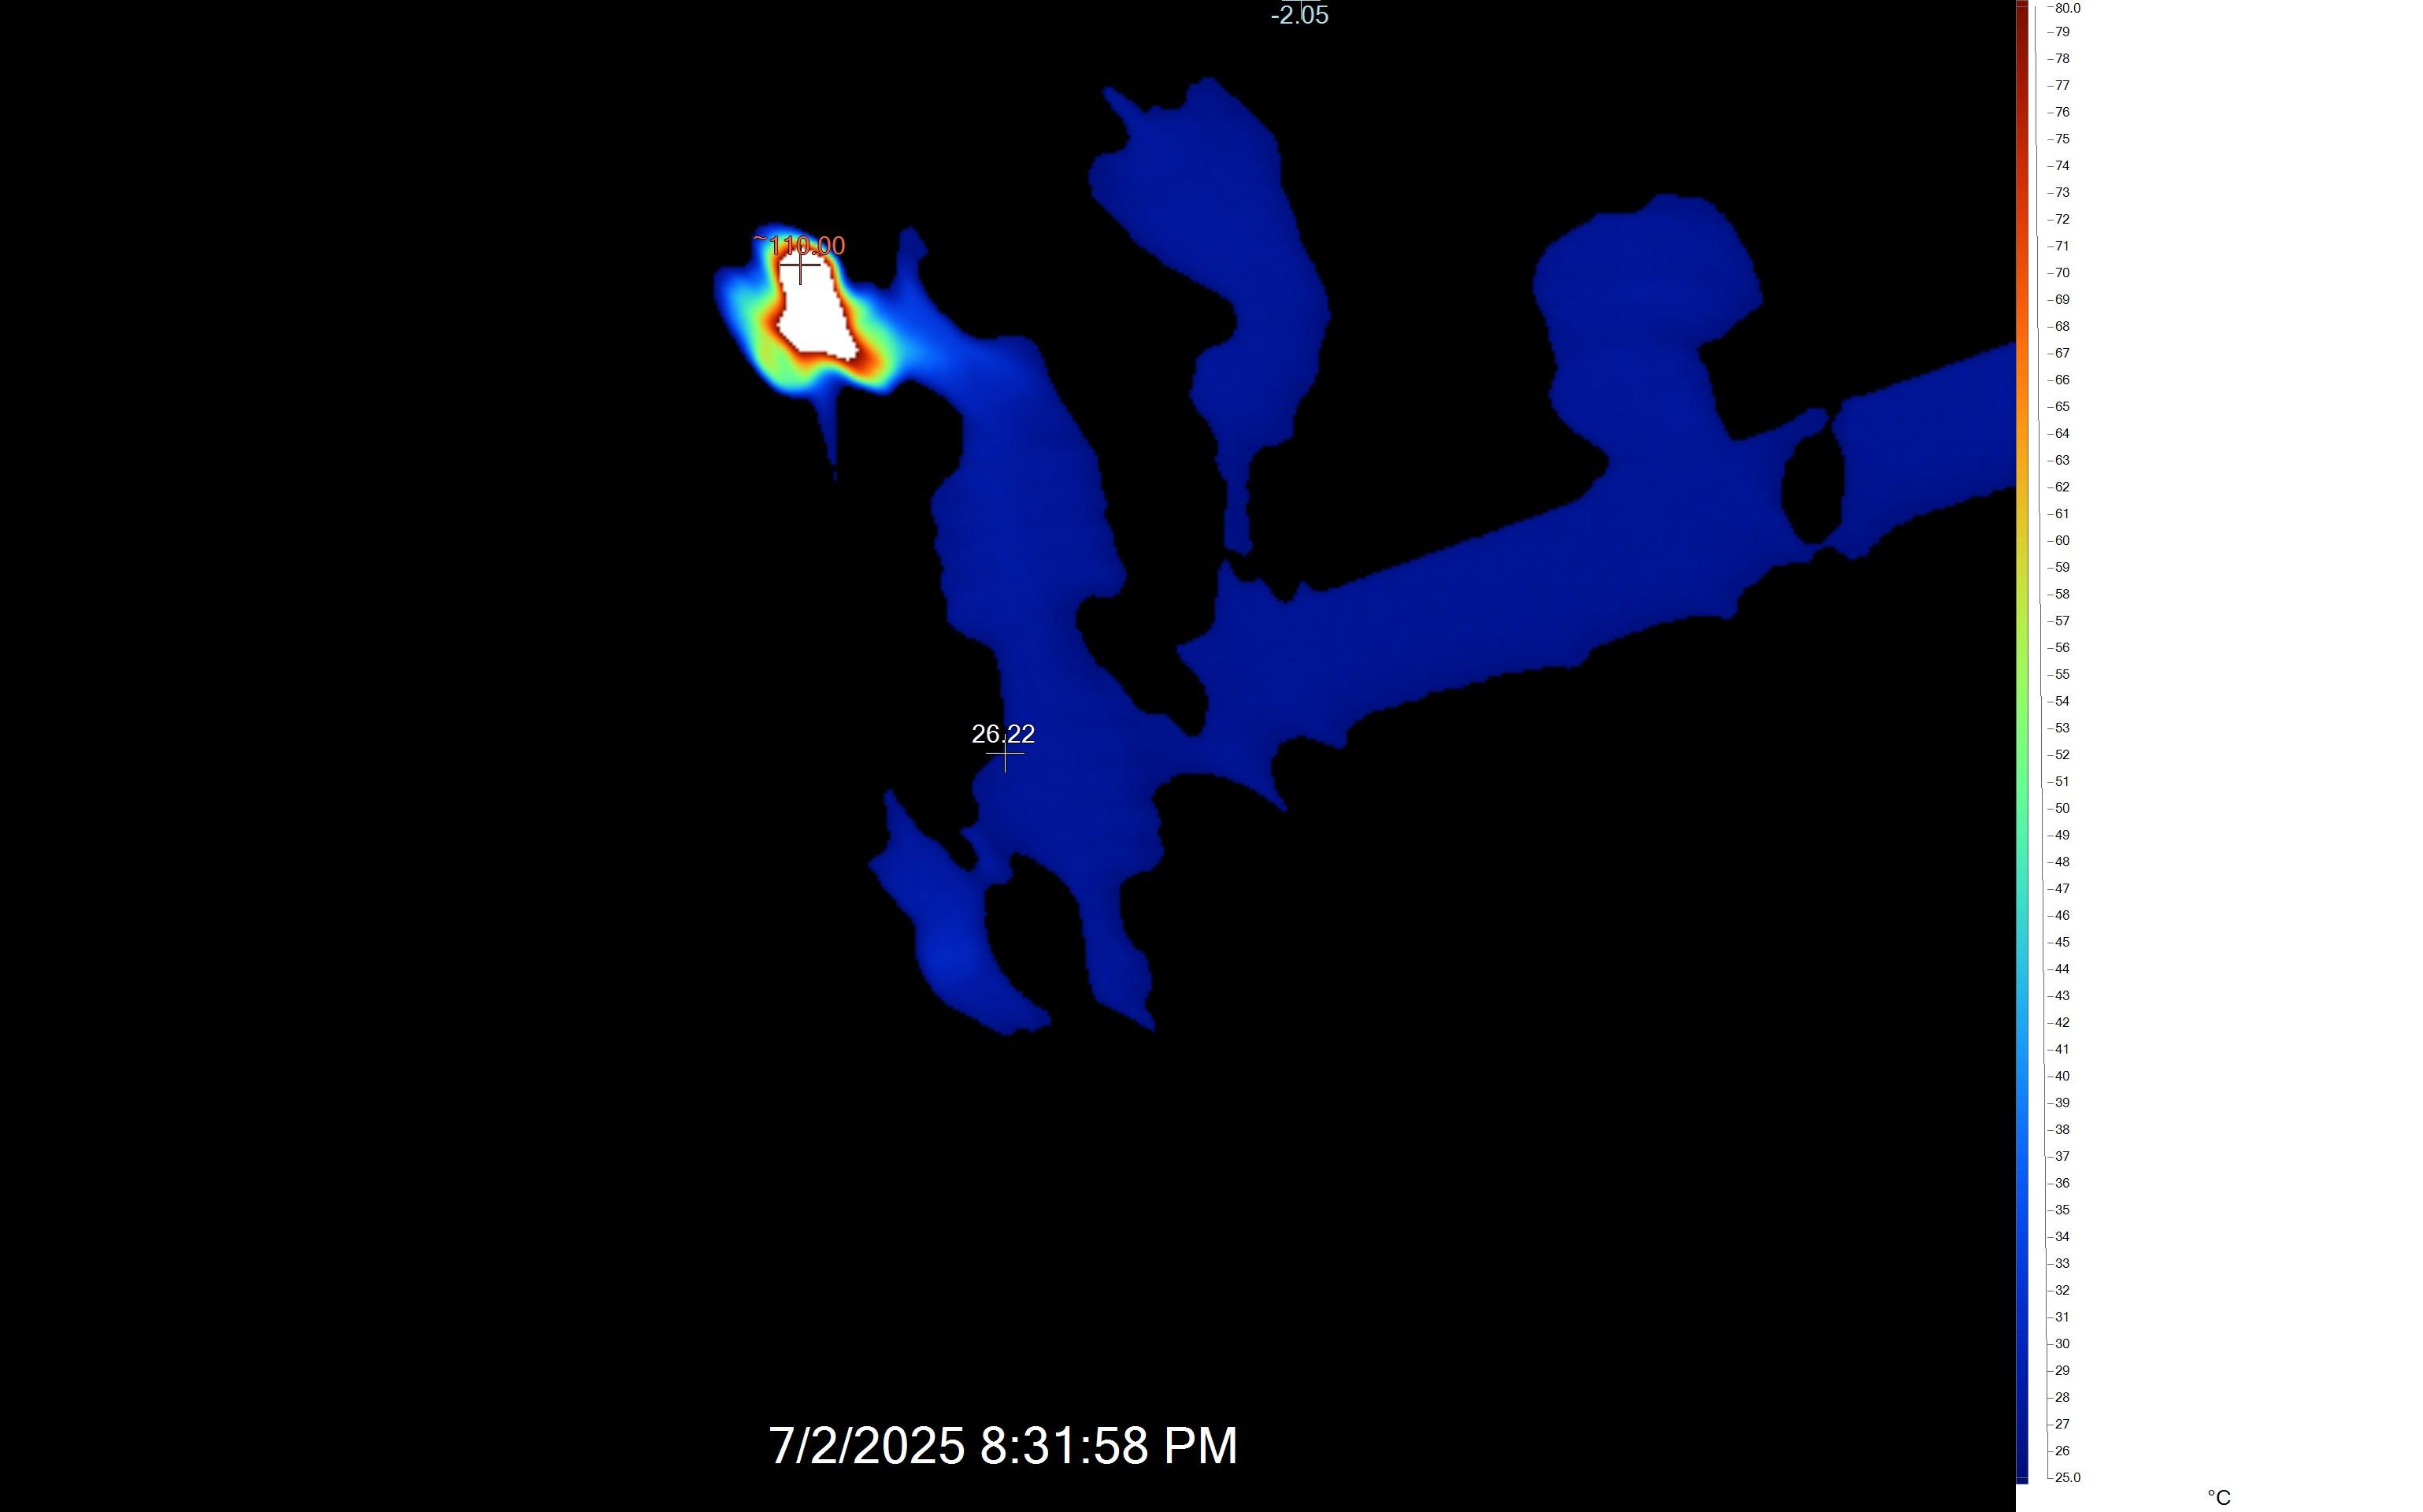Loose Joint -Faulty: (754, 226, 921, 411)
